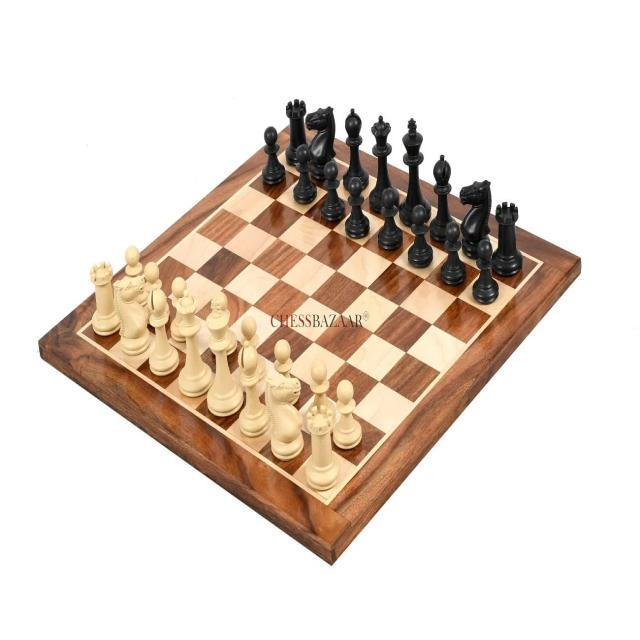chess-table-corners: (314, 491, 338, 518), (70, 318, 92, 345), (528, 250, 548, 278)
